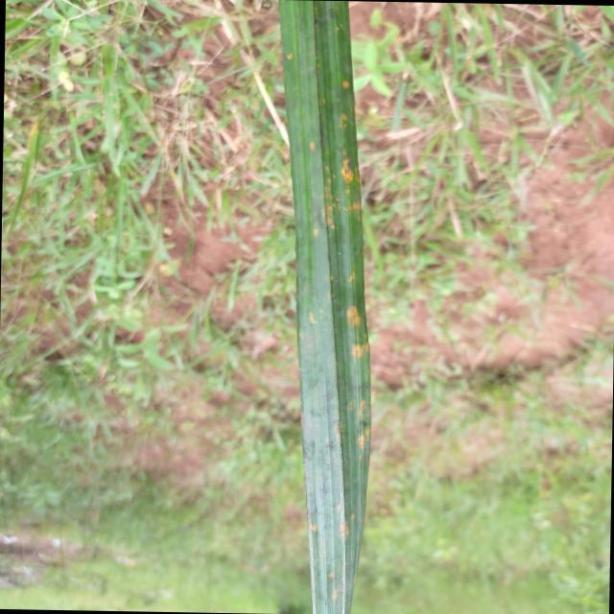Kalium: (276, 3, 375, 614)
